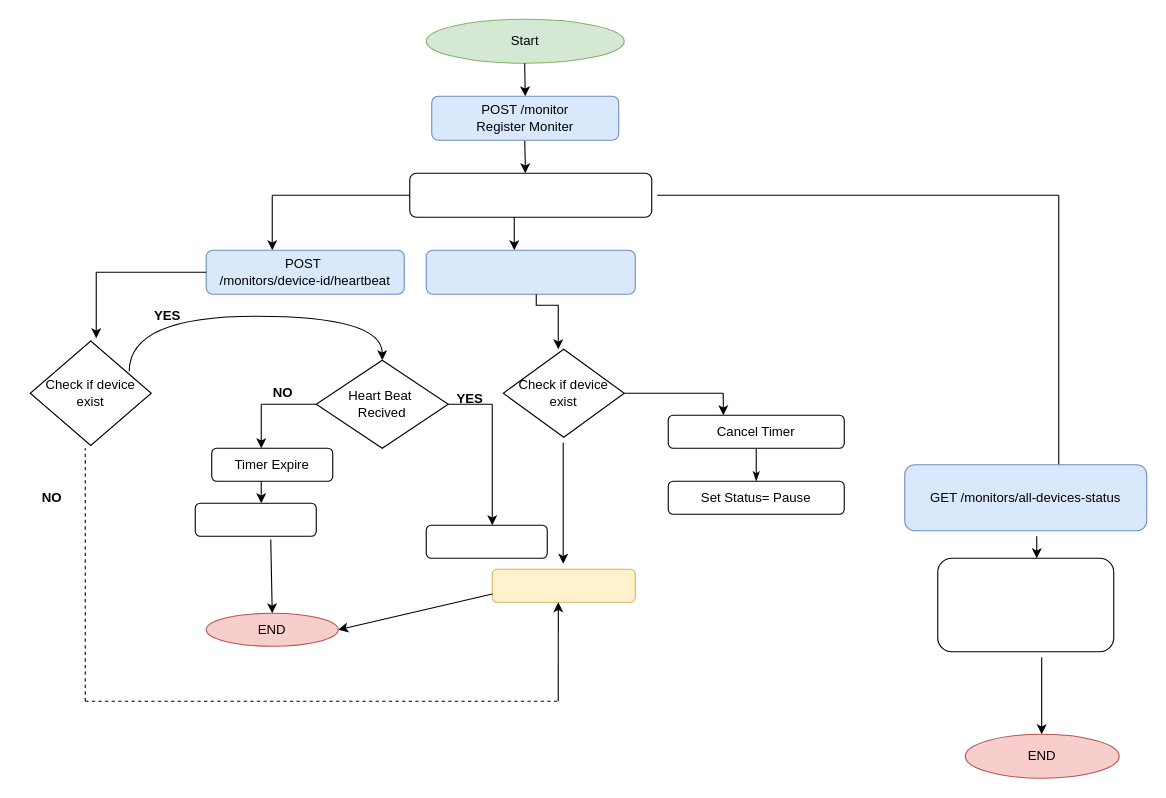
Image size: 1166x798. Some labels were removed from this diagram. The centre of each missing label's shape, as x and y in pixels:
"Check all devices status and Return ALIVE DOWN PAUSE" goes at (x=1025, y=604).
"POST /monitors/device-id/pause" goes at (x=530, y=271).
"Reset Timer" goes at (x=486, y=541).
"Return 404, Device Not Found" goes at (x=563, y=585).
"Start Monitoring Devices Timer" goes at (x=530, y=194).
"Triger Alert" goes at (x=255, y=519).
